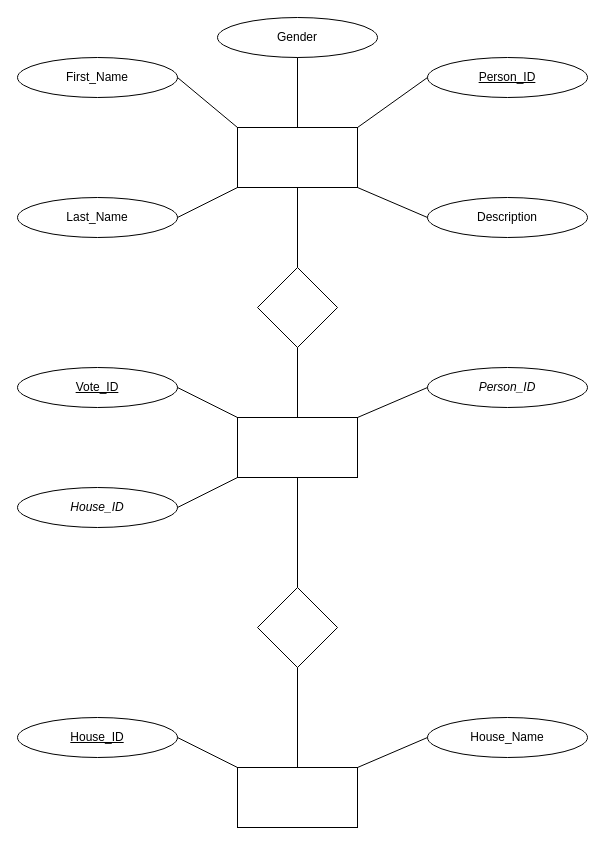
Image size: 605x845. Some labels were removed from this diagram. The centre of each missing label's shape, as x and y in pixels:
"Houses" goes at point (297, 797).
"Person" goes at point (297, 157).
"Votes" goes at point (297, 447).
